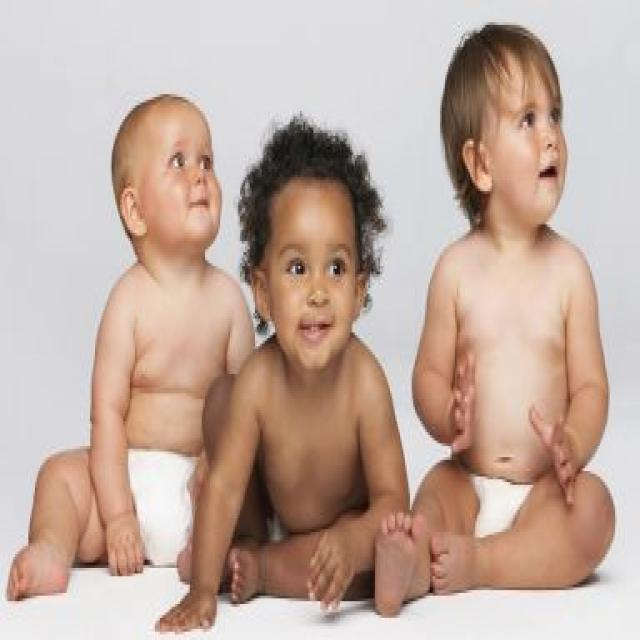non-dog: (149, 106, 432, 634), (8, 88, 260, 604), (410, 25, 617, 594)
